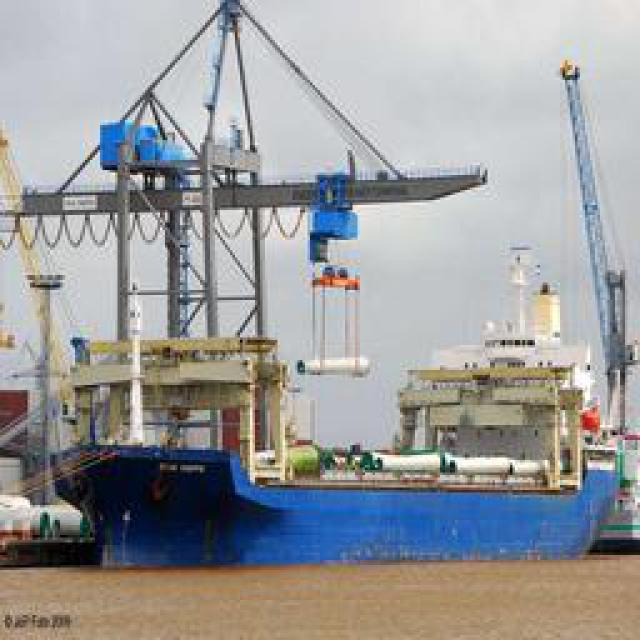Ship: (17, 180, 620, 575)
